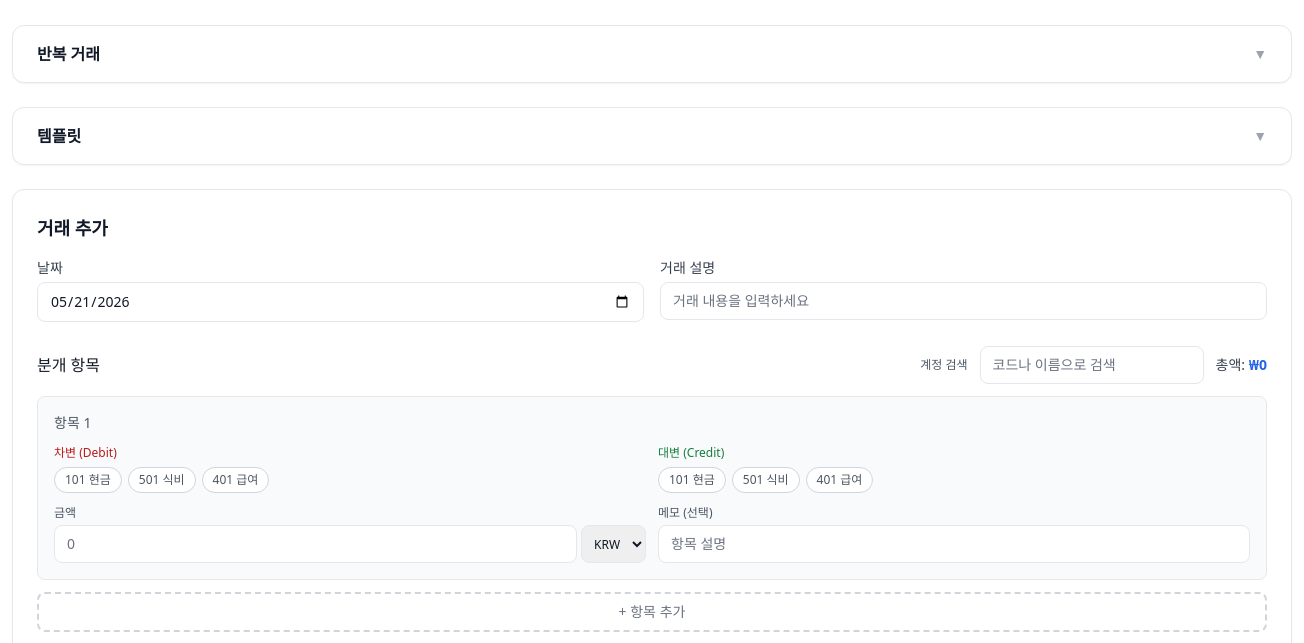
Test: RecurringTransactionsPage (반복 거래 탭) › 반복 거래 목록은 기준 통화 분개의 잘못된 환율을 무시하고 표시한다
Click the button "반복 거래 ▼".
click(69, 54)  # box 13,26 -> 1291,82
(page scrolled)
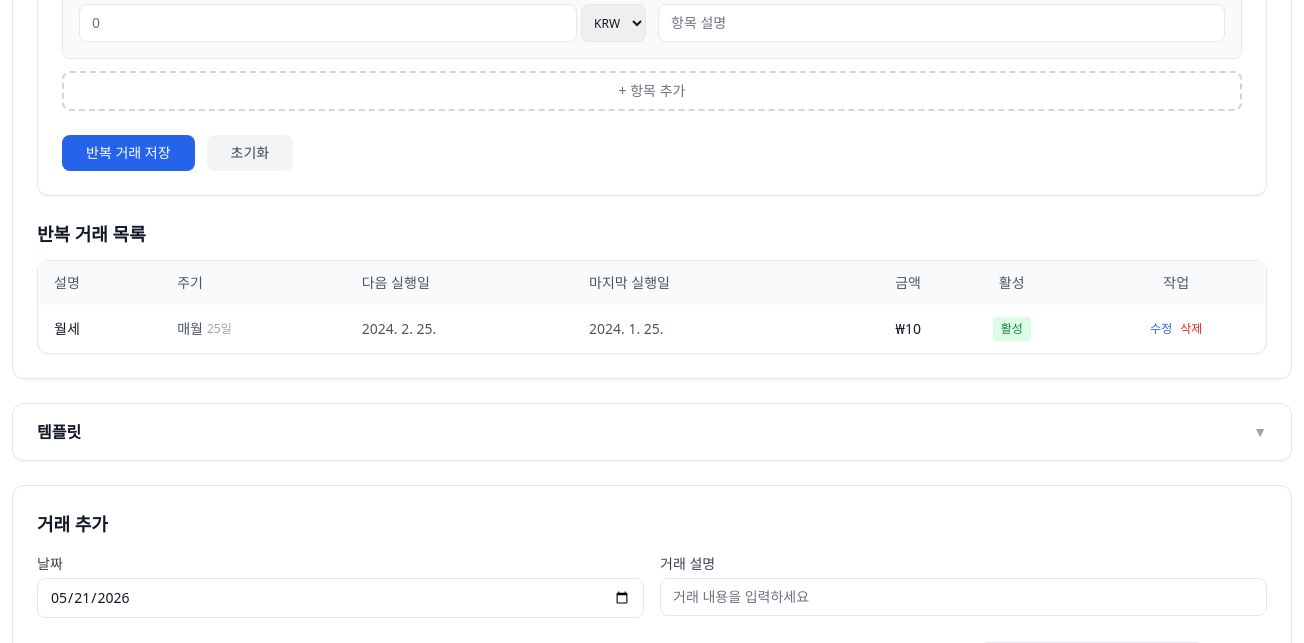
Now the text "₩10" is shown, box 814,305 -> 937,353
